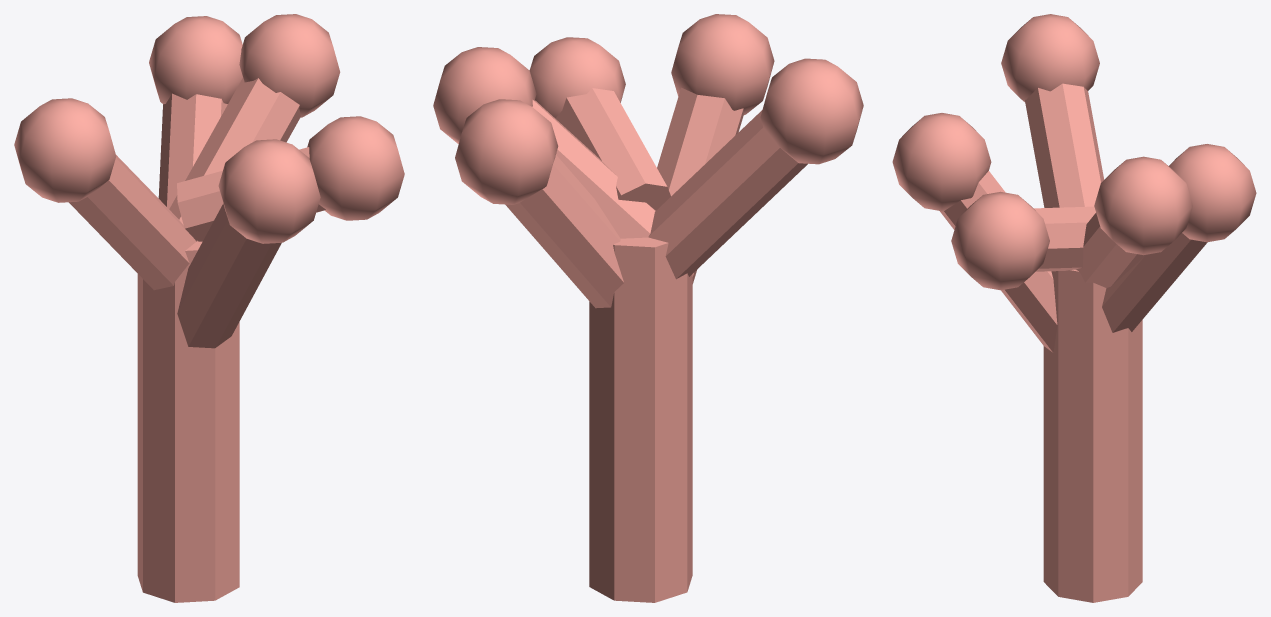
File: Coral.fbx
The picture shows the model from 3 angles, left to right: view 1: azimuth 30°, elevation 25°; view 2: azimuth 150°, elevation 25°; view 3: azimuth 270°, elevation 25°; orthographic projection. The views are drawn at different scales.
Parts seen in each view (by area): view 1: Coral; view 2: Coral; view 3: Coral.
Boxes of the visible parts, x1,y1,x2,y2 form: Coral: (14, 14, 404, 602); Coral: (433, 14, 863, 602); Coral: (892, 14, 1256, 602).
Size of the model in its own units: 0.4786 by 0.6649 by 0.4415.
